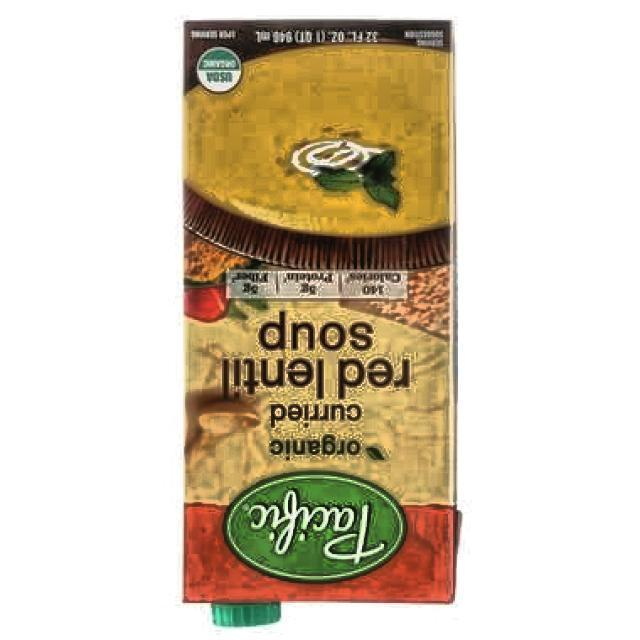cardboard: (182, 22, 460, 613)
